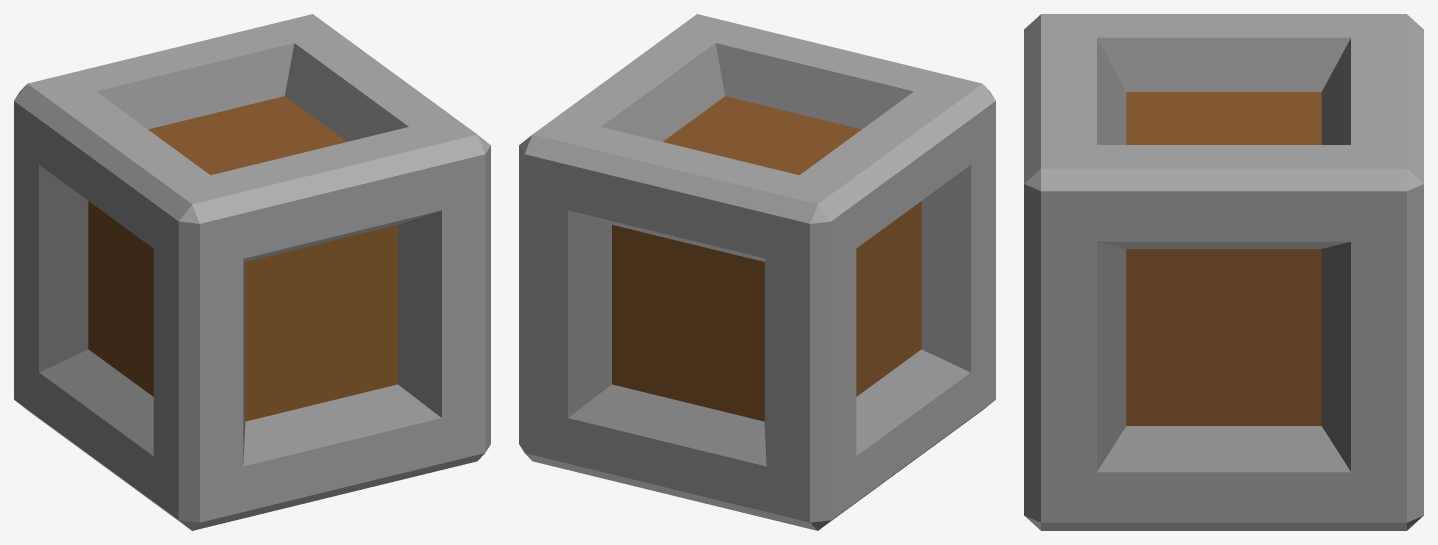
The model's file is WoodBox.fbx.
3 renders of one model, left to right at view 1: azimuth 30°, elevation 25°; view 2: azimuth 150°, elevation 25°; view 3: azimuth 270°, elevation 25°, orthographic. The views are drawn at different scales.
Parts seen in each view (by area): view 1: Cube; view 2: Cube; view 3: Cube.
Part boxes in pixels (left/top/right/bottom): Cube: left=14, top=14, right=490, bottom=530; Cube: left=519, top=14, right=995, bottom=530; Cube: left=1024, top=14, right=1423, bottom=530.
Size of the model in its own units: 91.38 by 91.38 by 91.38.
